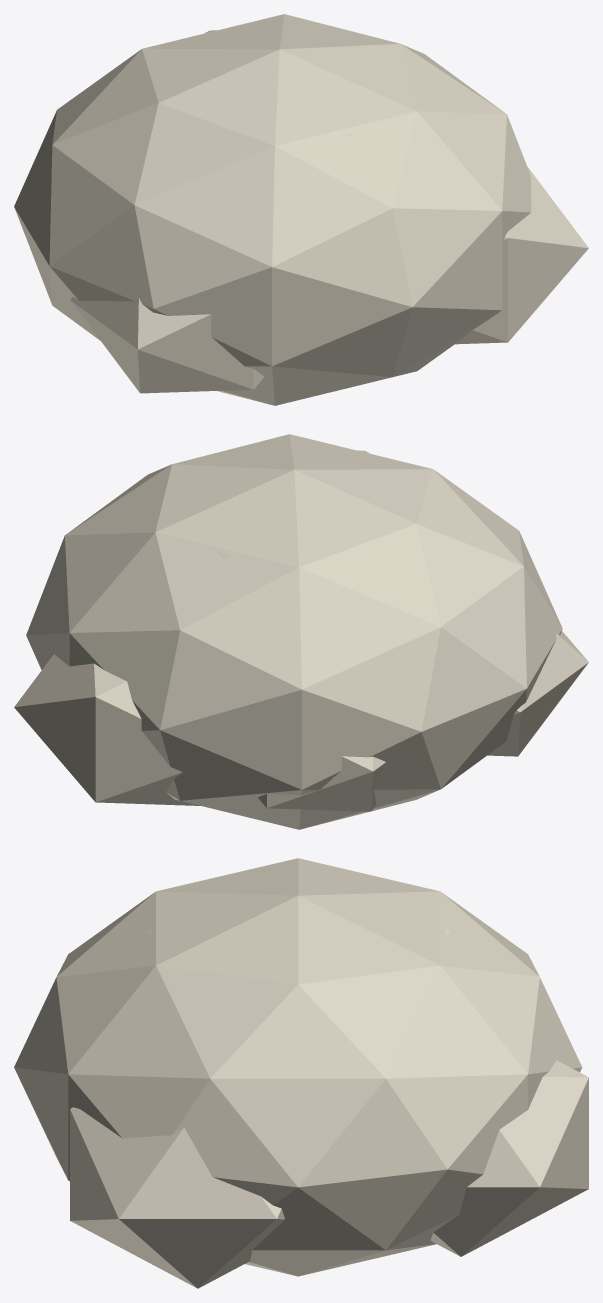
The model's file is coral-1.glb.
The picture shows the model from 3 angles, top to bottom: view 1: azimuth 30°, elevation 25°; view 2: azimuth 150°, elevation 25°; view 3: azimuth 270°, elevation 25°; orthographic projection. The views are drawn at different scales.
Parts seen in each view (by area): view 1: coral-1; view 2: coral-1; view 3: coral-1.
Boxes of the visible parts, x1=… form: coral-1: x1=14, y1=14, x2=588, y2=405; coral-1: x1=14, y1=434, x2=588, y2=829; coral-1: x1=14, y1=858, x2=588, y2=1288.
Bounding box in the file's own units: 0.4536 × 0.3024 × 0.4589.
